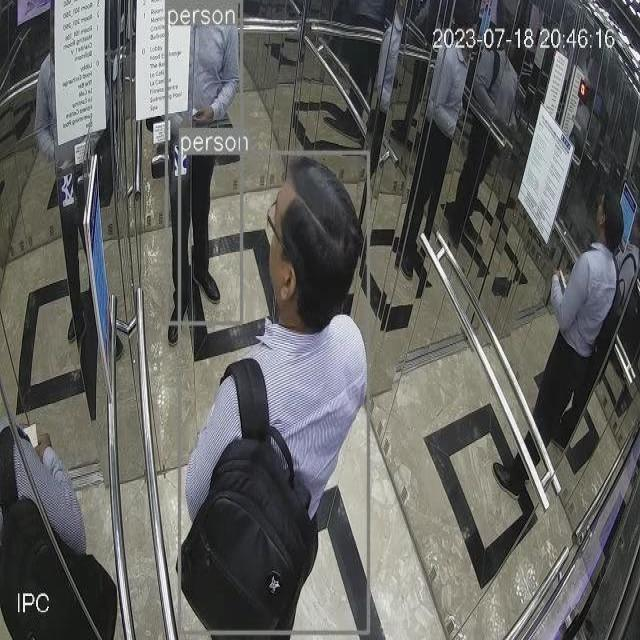person: (177, 155, 377, 632), (487, 191, 634, 529), (3, 369, 129, 640), (169, 8, 240, 325)
